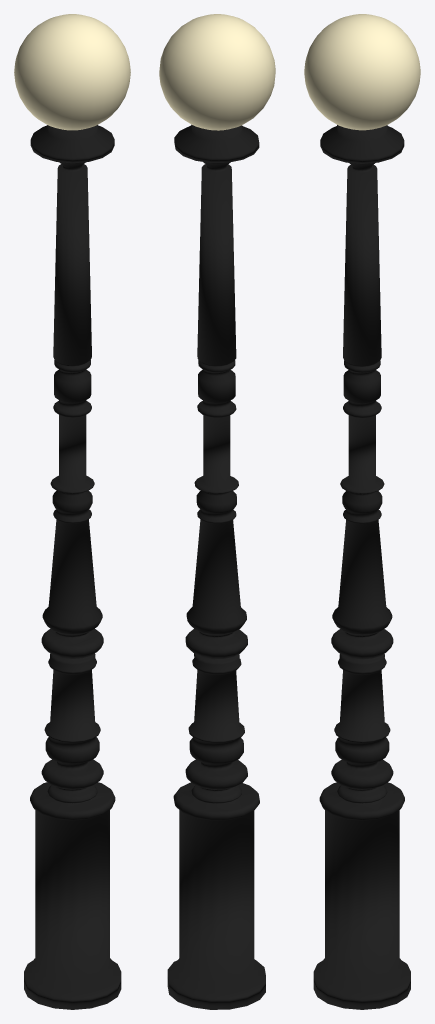
Rendered from victorian_lampost_1.fbx.
3 views of the same model, side by side, from view 1: azimuth 90°, elevation 25°; view 2: azimuth 150°, elevation 25°; view 3: azimuth 270°, elevation 25° (orthographic).
Parts seen in each view (by area): view 1: body, bulb_casing; view 2: body, bulb_casing; view 3: body, bulb_casing.
Boxes of the visible parts, bbox=[...] form: body: bbox=[24, 125, 121, 1009]; bulb_casing: bbox=[14, 14, 130, 130]; body: bbox=[167, 124, 265, 1009]; bulb_casing: bbox=[159, 14, 275, 130]; body: bbox=[313, 125, 410, 1009]; bulb_casing: bbox=[304, 14, 420, 130].
Size of the model in its own units: 45.22 by 415 by 45.22.
